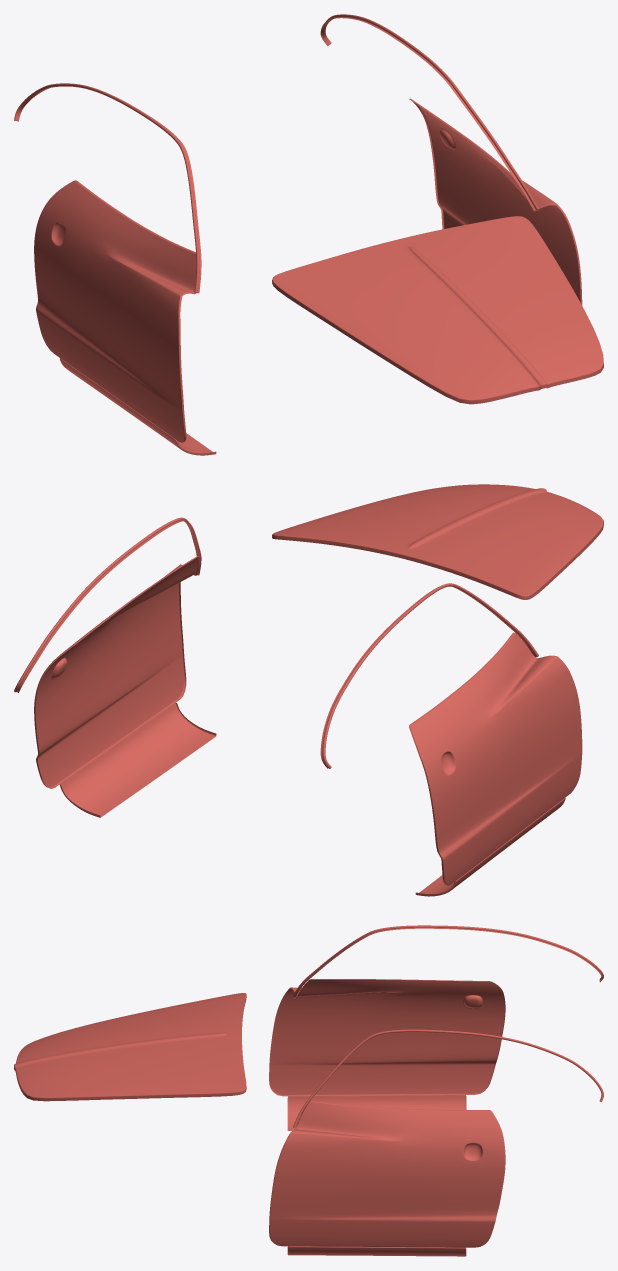
Rendered from body_06.fbx.
3 views of the same model, one above another, from view 1: azimuth 30°, elevation 25°; view 2: azimuth 150°, elevation 25°; view 3: azimuth 270°, elevation 25° (orthographic). The views are drawn at different scales.
Parts seen in each view (by area): view 1: body_06; view 2: body_06; view 3: body_06.
Part boxes in pixels (box(x1,y1,x2,y2)): body_06: box(14, 14, 603, 455); body_06: box(14, 484, 603, 896); body_06: box(14, 925, 603, 1256).
Size of the model in its own units: 416 by 263 by 661.
